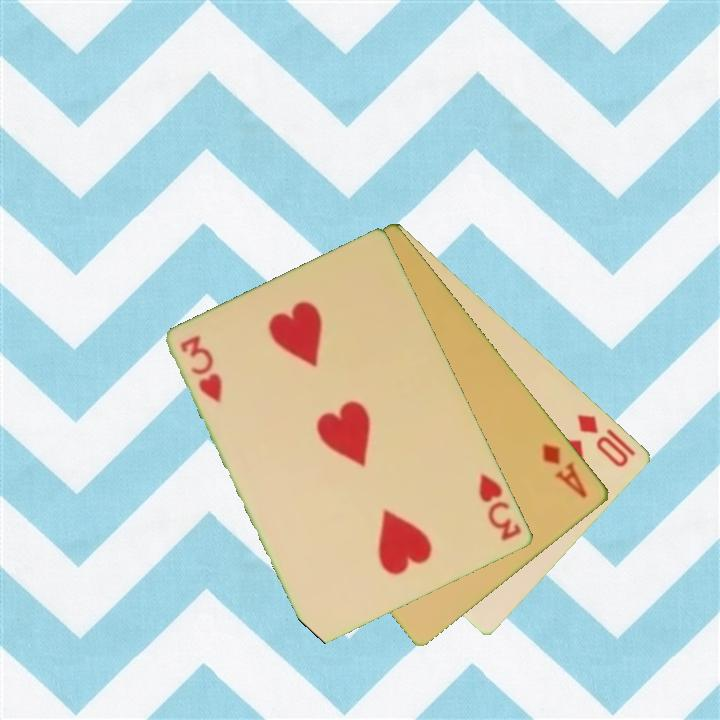10d: (573, 410, 639, 470)
3h: (475, 470, 525, 544), (177, 332, 226, 407)
Ad: (538, 439, 591, 502)
